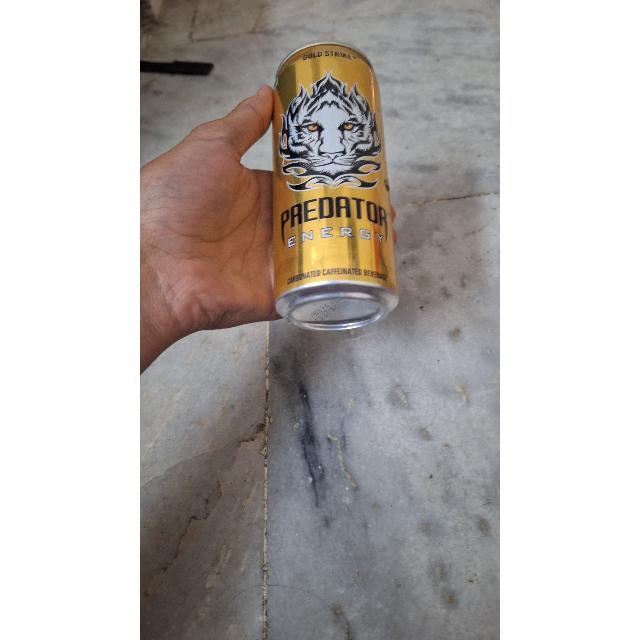Predator: (263, 41, 405, 323)
